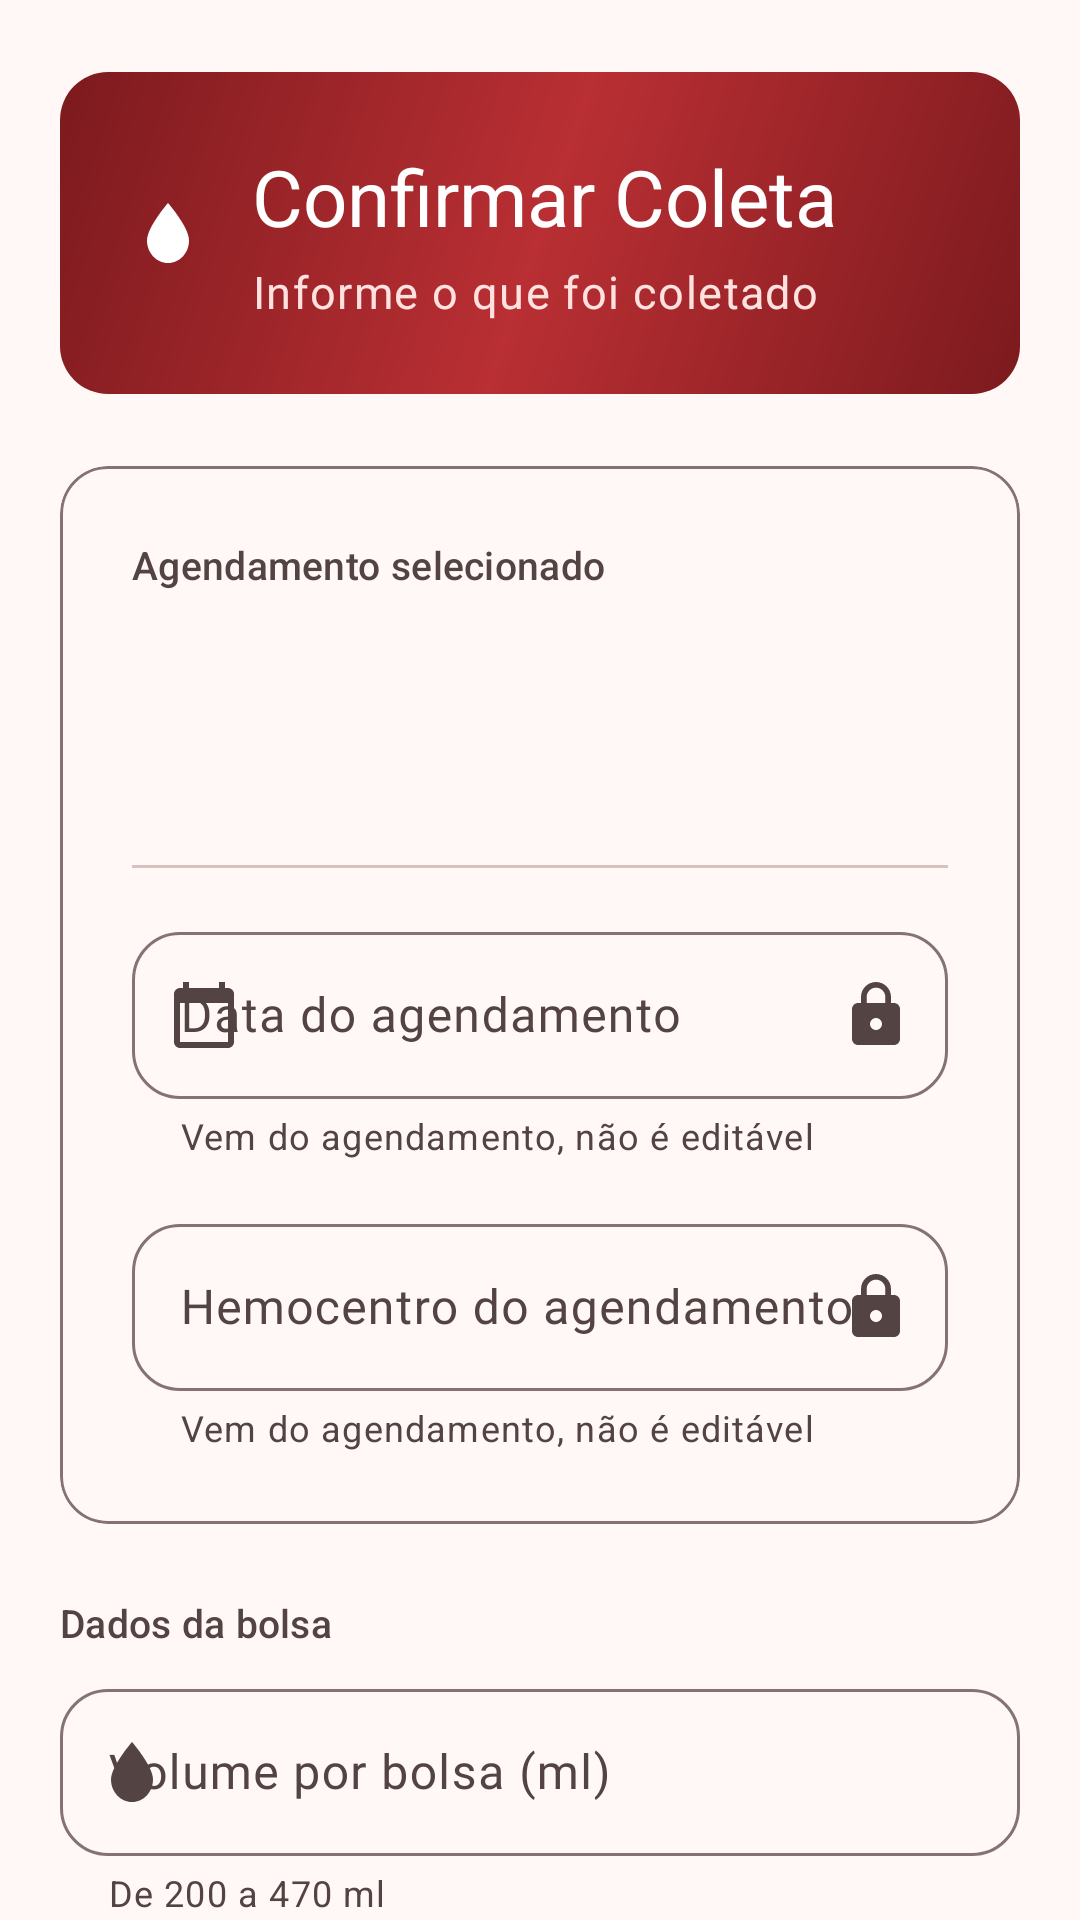

Icon click points for this 1080x1920 phone screenshot, format point (x, y):
drop: point (168, 233)
